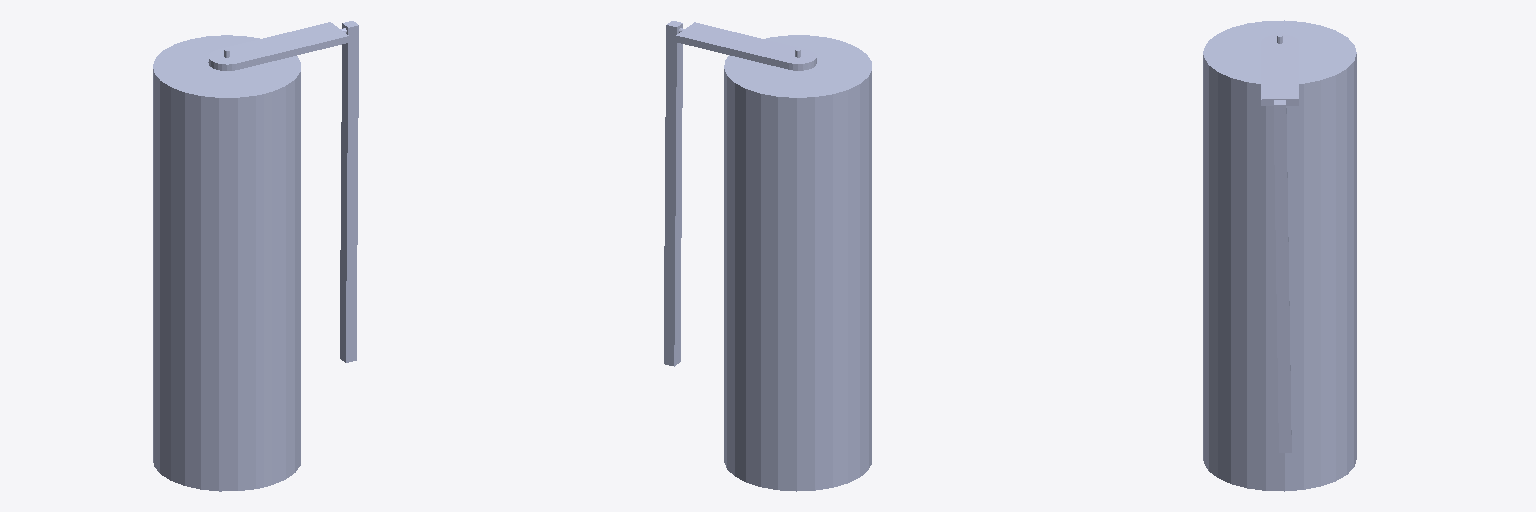
robot.urdf — robo:
<?xml version="1.0" encoding="utf-8" ?>
<!-- This URDF was automatically created by SolidWorks to URDF Exporter! Originally created by [author] ([email redacted]) 
     Commit Version: 1.5.1-0-g916b5db  Build Version: 1.5.7152.31018
     For more information, please see http://wiki.ros.org/sw_urdf_exporter -->
<robot name="robo">
    <link name="base_link">
        
<inertial>
            <origin xyz="-6.0852E-36 0.17501 1.2115E-18" rpy="0 0 0" />
            <mass value="3.9587" />
            <inertia ixx="0.043981" ixy="-8.0354E-35" ixz="-5.8559E-37" iyy="0.0071251" iyz="-1.1902E-21" izz="0.043981" />
        </inertial>

        <visual>
            <origin xyz="0 0 0" rpy="0 0 0" />
            <geometry>
                <mesh filename="package://pendulum_12/meshes/base_link.STL" />
            </geometry>
            <material name="">
                <color rgba="0.79216 0.81961 0.93333 1" />
            </material>
        </visual>
        <collision>
            <origin xyz="0 0 0" rpy="0 0 0" />
            <geometry>
                <mesh filename="package://pendulum_12/meshes/base_link.STL" />
            </geometry>
        </collision>
    </link>
    
  <!-- Used for fixing robot to Gazebo 'base_link' -->
  <link name="world"/>

    <joint name="fixed" type="fixed">
    	<parent link="world"/>
        <child link="base_link"/>
    </joint>

  
    <link name="arm">
        
<inertial>
            <origin xyz="0.047736 0.003 -7.0673E-19" rpy="0 0 0" />
            <mass value="0.021197" />
            <inertia ixx="1.6002E-06" ixy="1.0914E-22" ixz="-3.2692E-22" iyy="2.6543E-05" iyz="1.7356E-23" izz="2.5069E-05" />
        </inertial>

        <visual>
            <origin xyz="0 0 0" rpy="0 0 0" />
            <geometry>
                <mesh filename="package://pendulum_12/meshes/arm.STL" />
            </geometry>
            <material name="">
                <color rgba="0.79216 0.81961 0.93333 1" />
            </material>
        </visual>
        <collision>
            <origin xyz="0 0 0" rpy="0 0 0" />
            <geometry>
                <mesh filename="package://pendulum_12/meshes/arm.STL" />
            </geometry>
        </collision>
    </link>
    <joint name="joint1" type="continuous">
        <origin xyz="0 0 0.359" rpy="-1.5567 0 0" />
        <parent link="base_link" />
        <child link="arm" />
        <axis xyz="0 1 0" />
        <dynamics damping="0.05" friction="0.1" />
    </joint>
    <link name="pendulum">
        
<inertial>
            <origin xyz="0.005 0.14596 -6.5422E-19" rpy="0 0 0" />
            <mass value="0.029804" />
            <inertia ixx="0.00022109" ixy="1.298E-22" ixz="-1.168E-23" iyy="4.9806E-07" iyz="-5.5346E-23" izz="0.00022109" />
        </inertial>

        <visual>
            <origin xyz="0 0 0" rpy="0 0 0" />
            <geometry>
                <mesh filename="package://pendulum_12/meshes/pendulum.STL" />
            </geometry>
            <material name="">
                <color rgba="0.79216 0.81961 0.93333 1" />
            </material>
        </visual>
        <collision>
            <origin xyz="0 0 0" rpy="0 0 0" />
            <geometry>
                <mesh filename="package://pendulum_12/meshes/pendulum.STL" />
            </geometry>
        </collision>
    </link>
    <joint name="joint2" type="continuous">
        <origin xyz="0.11 0.003 0" rpy="0 0 0" />
        <parent link="arm" />
        <child link="pendulum" />
        <axis xyz="1 0 0" />
        <dynamics friction="0.001" />
    </joint>
    
<transmission name="trans_joint1">
        <type>transmission_interface/SimpleTransmission</type>
        <joint name="joint1">
            <hardwareInterface>hardware_interface/EffortJointInterface</hardwareInterface>
        </joint>
        <actuator name="joint1_motor">
            <hardwareInterface>hardware_interface/EffortJointInterface</hardwareInterface>
            <mechanicalReduction>1</mechanicalReduction>
        </actuator>
    </transmission>
    <transmission name="trans_joint2">
        <type>transmission_interface/SimpleTransmission</type>
        <joint name="joint2">
            <hardwareInterface>hardware_interface/EffortJointInterface</hardwareInterface>
        </joint>
        <actuator name="joint2_motor">
            <hardwareInterface>hardware_interface/EffortJointInterface</hardwareInterface>
            <mechanicalReduction>1</mechanicalReduction>
        </actuator>
    </transmission>
    
    <gazebo>
    	<plugin filename="libgazebo_ros_control.so" name="gazebo_ros_control">
    	<robotNamespace>/ip</robotNamespace>
    	</plugin>
    </gazebo>
</robot>

--- Render facts (derived) ---
Views: 3 orthographic renders of the robot side by side, from view 1: azimuth 30°, elevation 25°; view 2: azimuth 150°, elevation 25°; view 3: azimuth 270°, elevation 25°.
Model robo with 4 links and 3 joints (2 continuous, 1 fixed), rooted at world, posed every joint at zero.
Visible links, largest first — view 1: base_link, pendulum, arm; view 2: base_link, pendulum, arm; view 3: base_link, pendulum, arm.
Link boxes in pixels (left/top/right/bottom): base_link: left=153, top=35, right=300, bottom=491; pendulum: left=340, top=21, right=358, bottom=362; arm: left=208, top=22, right=348, bottom=70; base_link: left=724, top=35, right=871, bottom=491; pendulum: left=664, top=21, right=682, bottom=366; arm: left=676, top=22, right=816, bottom=70; base_link: left=1203, top=20, right=1356, bottom=491; pendulum: left=1274, top=100, right=1291, bottom=452; arm: left=1261, top=34, right=1298, bottom=113.
Size in the robot's own frame: 0.1799 by 0.12 by 0.365 metres.
Meshes: 3 distinct files referenced, 3 mesh visuals loaded (3 binary STL).